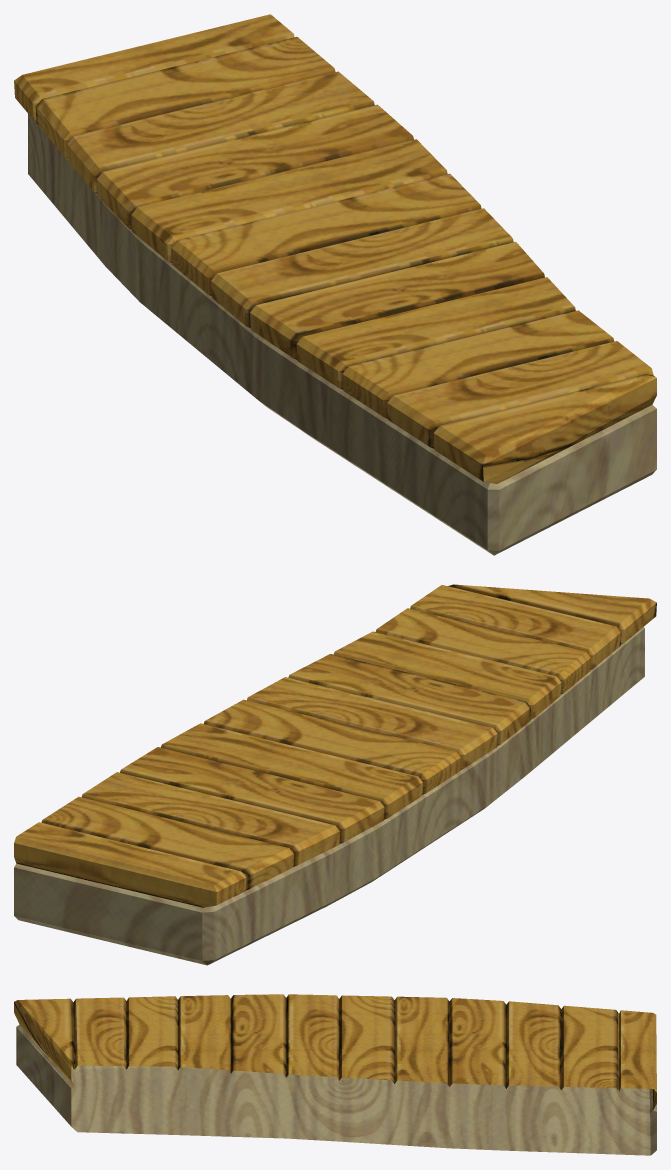
Rendered from ForestAppearStepA_bake.dae.
The picture shows the model from 3 angles, top to bottom: view 1: azimuth 30°, elevation 25°; view 2: azimuth 150°, elevation 25°; view 3: azimuth 270°, elevation 25°; orthographic projection. The views are drawn at different scales.
Visible parts, largest first — view 1: m0, m1; view 2: m0, m1; view 3: m0, m1.
Boxes of the visible parts, x1=… form: m0: x1=14, y1=14, x2=656, y2=483; m1: x1=28, y1=114, x2=656, y2=555; m0: x1=14, y1=584, x2=656, y2=907; m1: x1=14, y1=627, x2=644, y2=965; m0: x1=14, y1=994, x2=656, y2=1109; m1: x1=16, y1=1024, x2=656, y2=1155.
Size of the model in its own units: 558 by 180 by 1569.
Materials: 3 (3 with a texture image).
